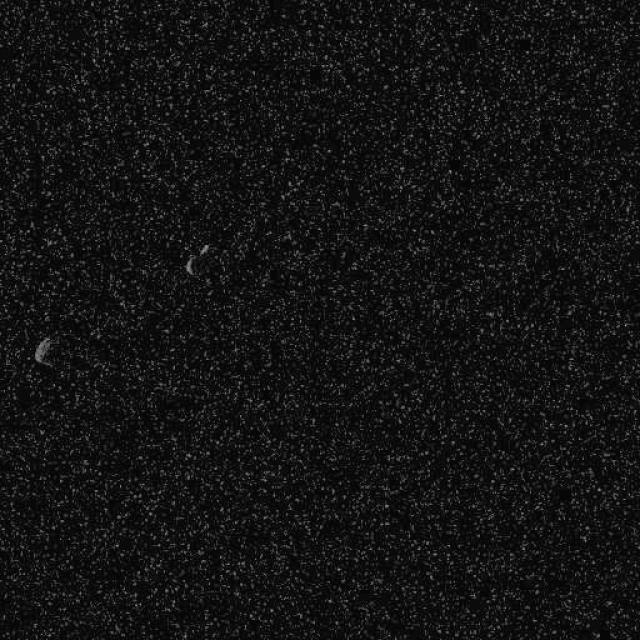D2: (32, 334, 92, 371), (182, 242, 212, 278), (33, 335, 55, 366)
